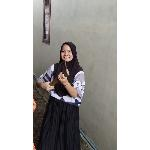Kapak: (46, 58, 72, 88)
